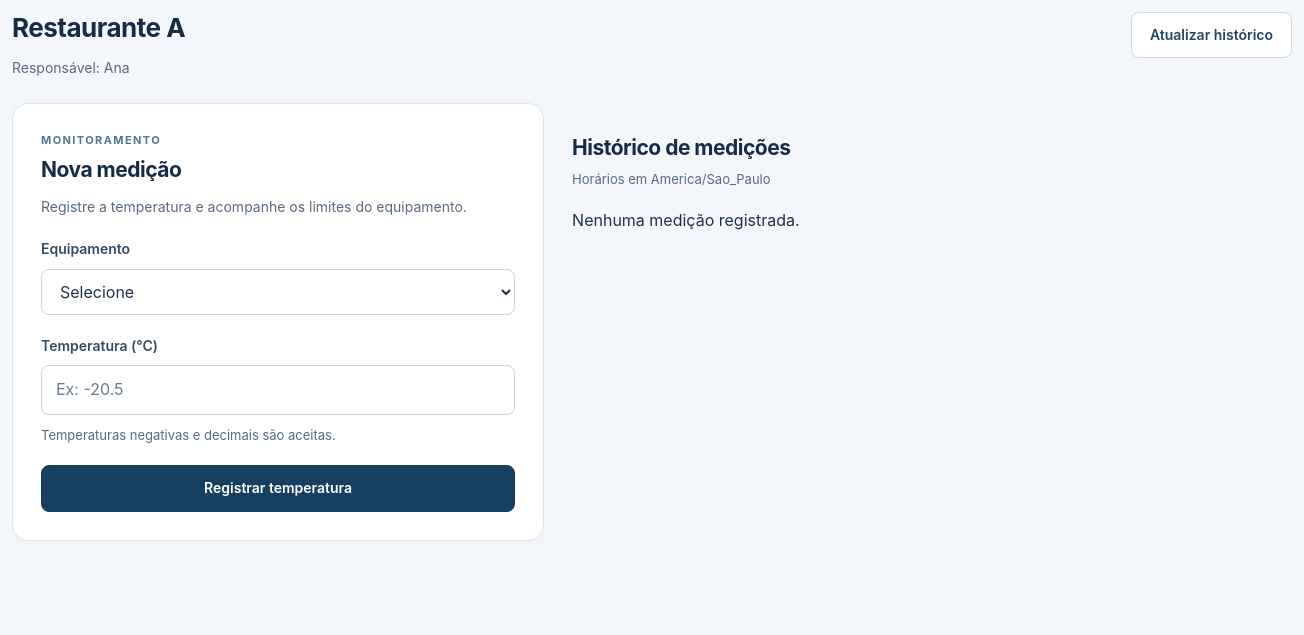
Test: medições compartilhadas › registra -25 e exibe status normal retornado pelo banco
The width and height of the screenshot is (1304, 635).
Expected: the heading "Restaurante A" is shown, [12,12,185,43]
Select "Freezer A" in the dropdown labelled "Equipamento": {"x": 278, "y": 292} [41,268,515,314]
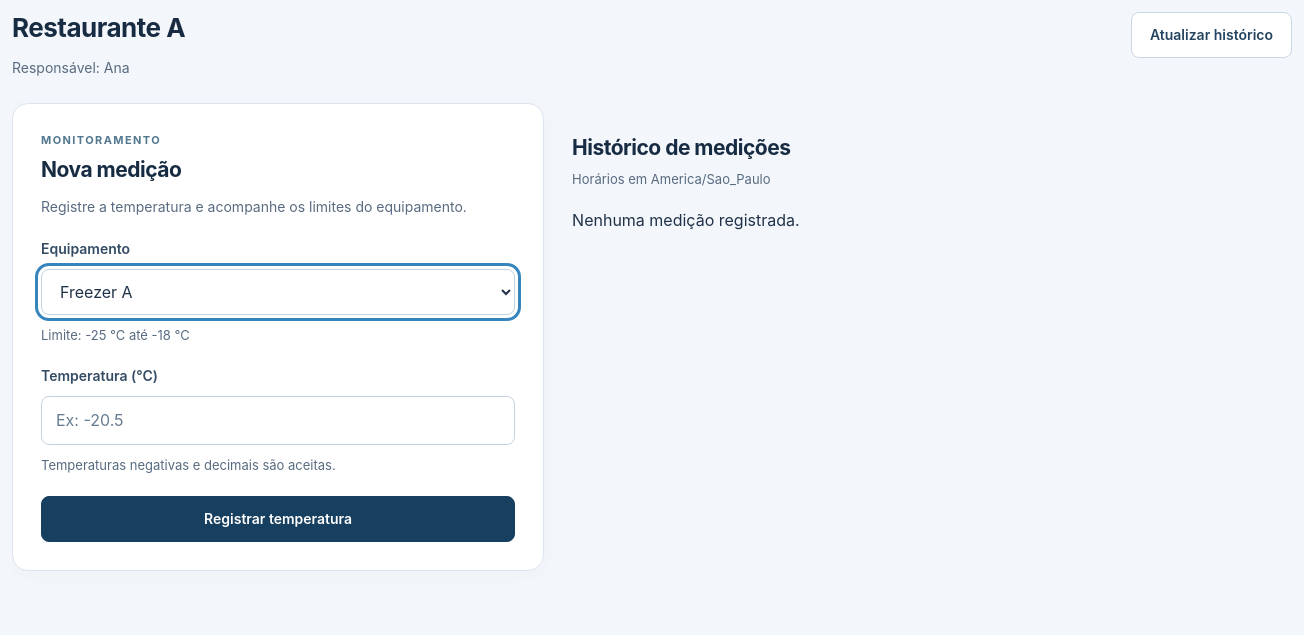
In the number field labelled "Temperatura (°C)": {"x": 278, "y": 420} [41,396,515,445], type "-25"
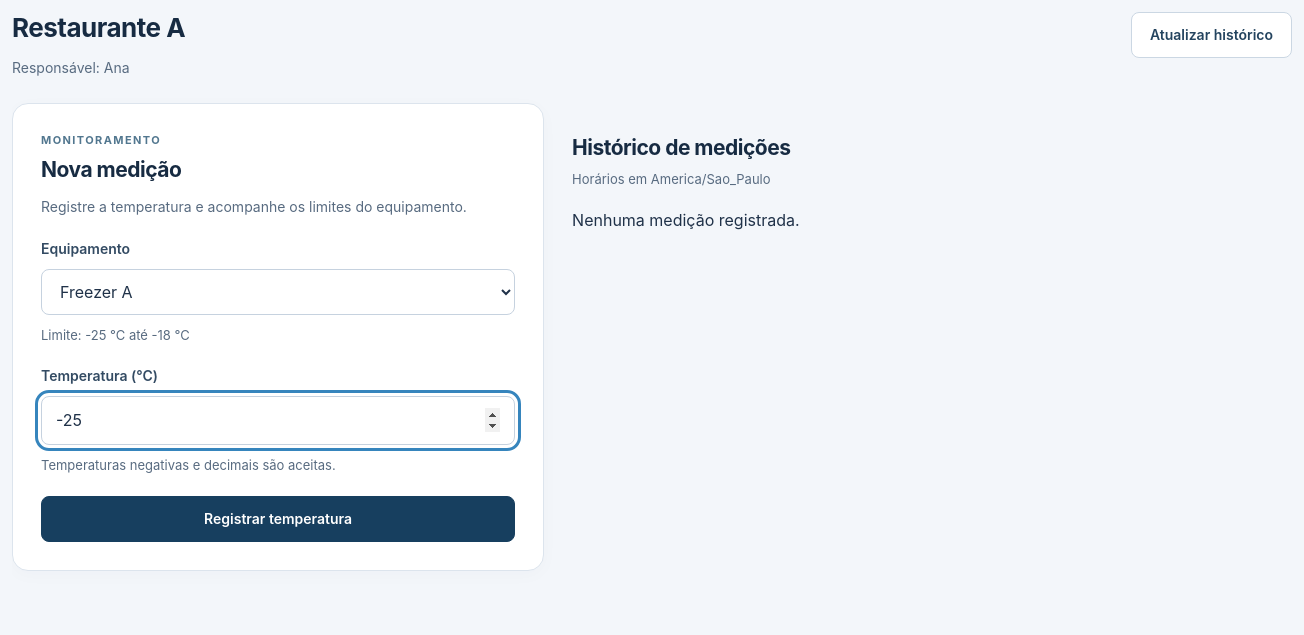
Click the button "Registrar temperatura": {"x": 278, "y": 519} [41,496,515,542]
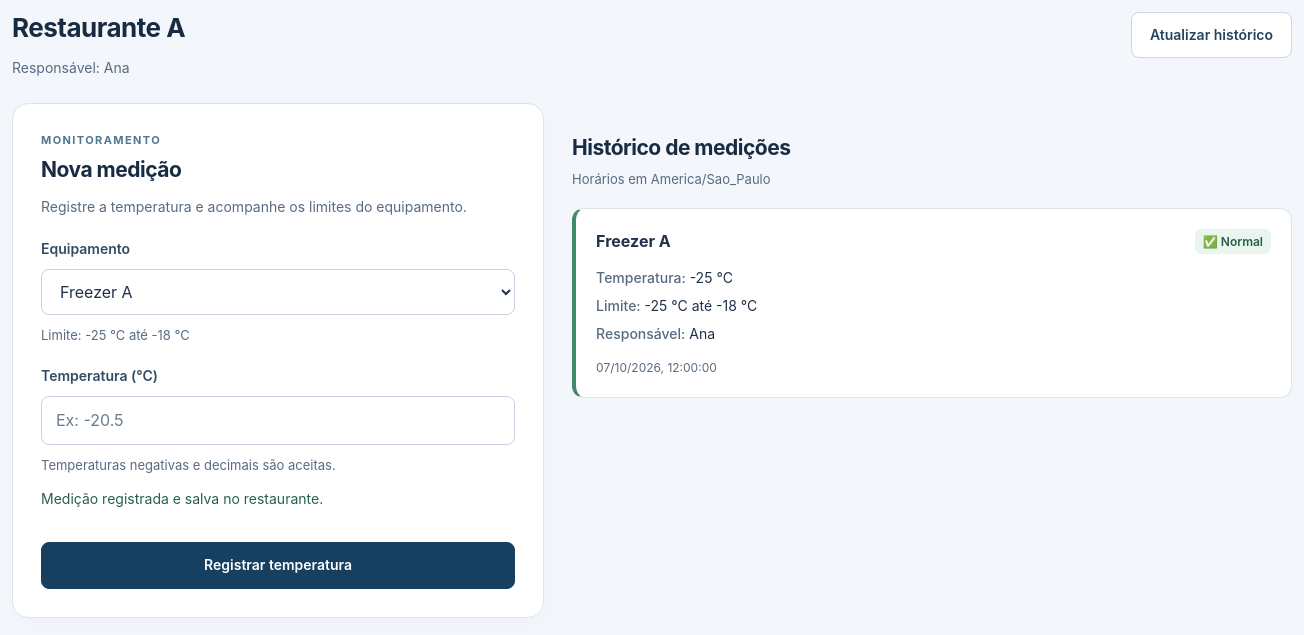
Now the element that starts with "Freezer A" shows "-25 °C", box [572,208,1292,398]
Now the element that starts with "Freezer A" shows "Normal", box [1203,234,1263,249]
Now the element that starts with "Freezer A" shows "Responsável: Ana", box [572,208,1292,398]
